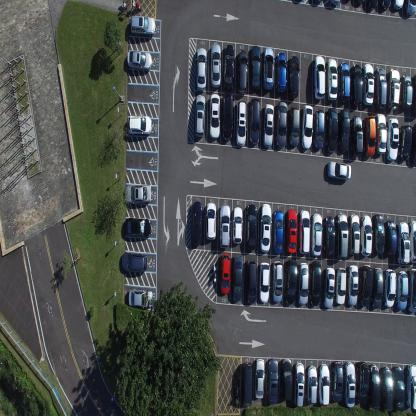car: (284, 258, 298, 306), (259, 202, 272, 253), (358, 264, 373, 308), (284, 209, 298, 254), (336, 211, 349, 259), (343, 360, 356, 408), (124, 216, 152, 238), (266, 358, 279, 405), (222, 43, 235, 90), (355, 361, 369, 404), (222, 91, 234, 141), (126, 49, 152, 72), (121, 250, 148, 272), (245, 202, 257, 251), (397, 221, 410, 266), (292, 361, 305, 406), (280, 357, 293, 402), (386, 116, 399, 161), (275, 100, 287, 148), (248, 97, 260, 145), (386, 68, 400, 109), (126, 114, 152, 136), (190, 199, 202, 246), (245, 258, 257, 305), (298, 208, 310, 255), (241, 360, 253, 407), (326, 106, 338, 153), (382, 267, 396, 307), (323, 215, 336, 258), (322, 266, 335, 309), (370, 266, 383, 309), (350, 63, 363, 106), (219, 203, 231, 249), (309, 260, 321, 306), (381, 366, 393, 412), (338, 108, 350, 154), (262, 102, 274, 148), (235, 100, 247, 146), (195, 45, 207, 91), (249, 45, 261, 91), (360, 214, 373, 256), (338, 61, 351, 103), (129, 14, 155, 35), (272, 209, 284, 254), (310, 212, 322, 257), (301, 104, 313, 149), (194, 93, 206, 138), (313, 55, 325, 100), (232, 254, 243, 302), (297, 262, 309, 306), (318, 362, 330, 406), (362, 62, 374, 106), (363, 113, 375, 157), (262, 46, 274, 90), (327, 159, 352, 180), (372, 214, 385, 254), (395, 270, 408, 310), (125, 184, 151, 204), (398, 124, 412, 161), (209, 92, 220, 139), (237, 48, 248, 95), (219, 252, 231, 295), (348, 213, 360, 256), (331, 360, 343, 403), (374, 67, 386, 110), (288, 55, 300, 98), (369, 364, 380, 410), (271, 260, 283, 302), (253, 358, 265, 400), (351, 114, 363, 156), (288, 105, 300, 147), (275, 52, 287, 94), (326, 58, 338, 100), (128, 288, 153, 308), (210, 42, 221, 87), (375, 113, 387, 154), (313, 109, 325, 150), (259, 260, 270, 304), (205, 200, 217, 240), (347, 264, 358, 307), (335, 266, 347, 305), (400, 74, 413, 110), (405, 364, 415, 410), (394, 366, 404, 412), (385, 219, 397, 256), (232, 205, 243, 245), (406, 268, 416, 312), (306, 365, 317, 405), (408, 221, 416, 262), (410, 122, 416, 166), (411, 74, 416, 115), (404, 0, 416, 15), (392, 0, 404, 13), (380, 0, 392, 11), (366, 0, 378, 11), (353, 0, 365, 7), (330, 0, 341, 7)
